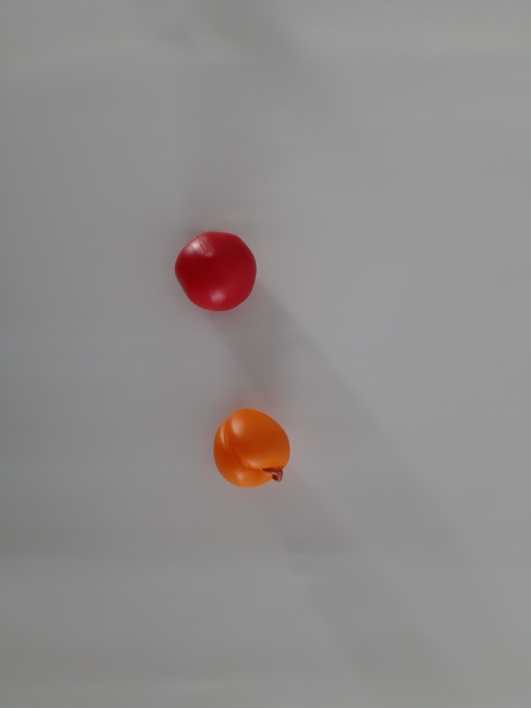apricot: (187, 395, 312, 512)
tomato: (151, 218, 296, 329)
